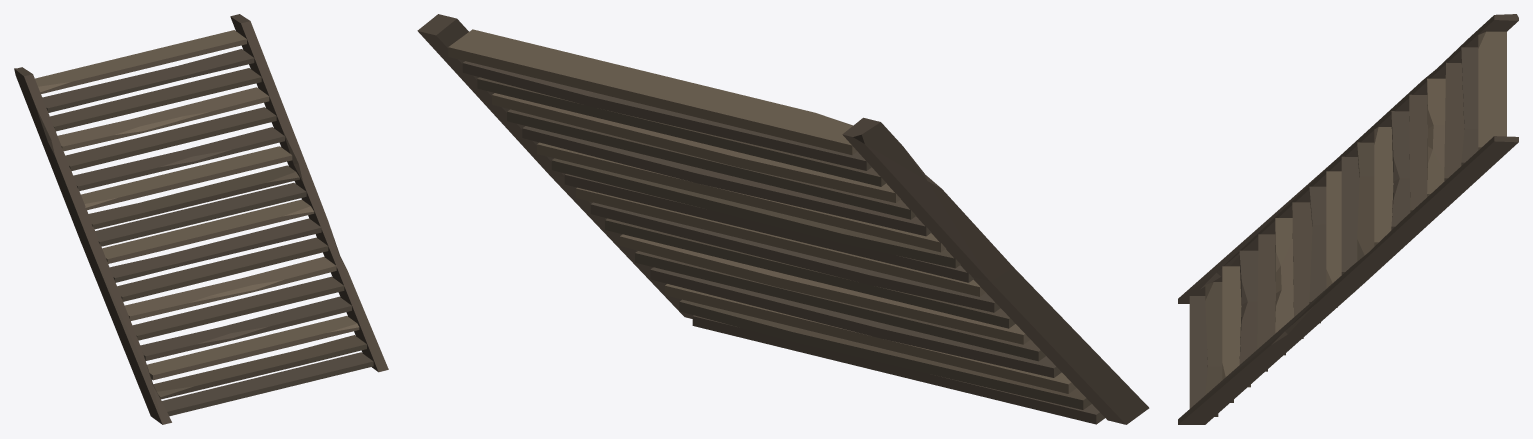
Rendered from SM_Bld_House_Stairs_04.fbx.
The picture shows the model from 3 angles, left to right: view 1: azimuth 30°, elevation 25°; view 2: azimuth 150°, elevation 25°; view 3: azimuth 270°, elevation 25°; orthographic projection. The views are drawn at different scales.
Visible parts, largest first — view 1: SM_Bld_House_Stairs_04; view 2: SM_Bld_House_Stairs_04; view 3: SM_Bld_House_Stairs_04.
Boxes of the visible parts, x1,y1,x2,y2 form: SM_Bld_House_Stairs_04: (14, 14, 388, 424); SM_Bld_House_Stairs_04: (417, 14, 1149, 424); SM_Bld_House_Stairs_04: (1178, 14, 1518, 424).
Size of the model in its own units: 247 by 258 by 280.
